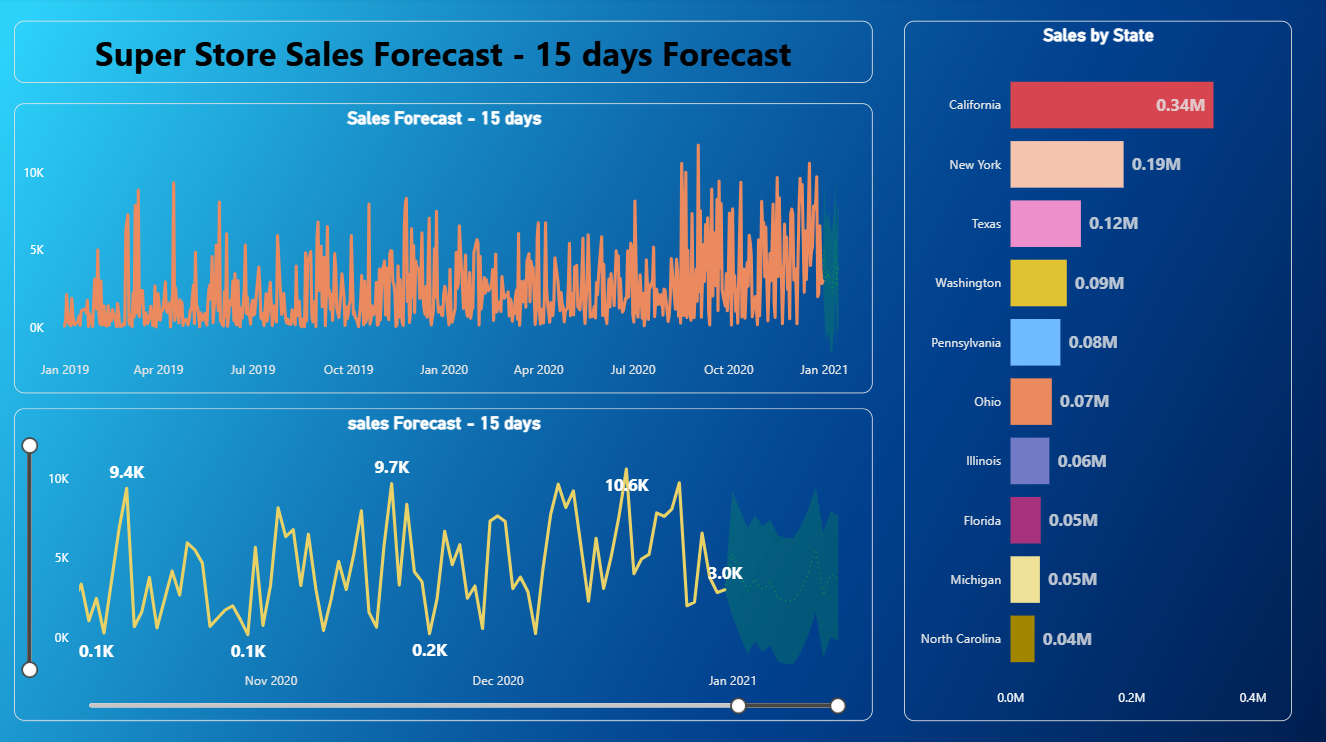

This screenshot's page, from the dashboard's own definition file:
{"tool":"powerbi","page":{"name":"Page 2","canvas":[1280,720],"ordinal":1},"visuals":[{"type":"lineChart","title":"sales Forecast - 15 days","fields":{"Y":["Sum(SuperStore_Sales_Dataset.Sales)"],"Category":["SuperStore_Sales_Dataset.Order Date"]},"box":[14.5,396.9,828.8,301.6],"z":0},{"type":"lineChart","title":"Sales Forecast - 15 days","fields":{"Y":["Sum(SuperStore_Sales_Dataset.Sales)"],"Category":["SuperStore_Sales_Dataset.Order Date"]},"box":[14,102,829,280],"z":1000},{"type":"barChart","title":" Sales by State","fields":{"Y":["Sum(SuperStore_Sales_Dataset.Sales)"],"Category":["SuperStore_Sales_Dataset.State"]},"box":[874,23,374,676],"z":2000},{"type":"textbox","box":[14,23,829,60],"z":3000}]}

Visuals, with their boxes in screenshot pixels (x1, y1, x2, y2), scaled from the page's 1280x720 canvas onto the 1326x742 screenshot:
"sales Forecast - 15 days" lineChart: 15, 409, 874, 720
"Sales Forecast - 15 days" lineChart: 15, 105, 873, 394
" Sales by State" barChart: 905, 24, 1293, 720
textbox: 15, 24, 873, 86
